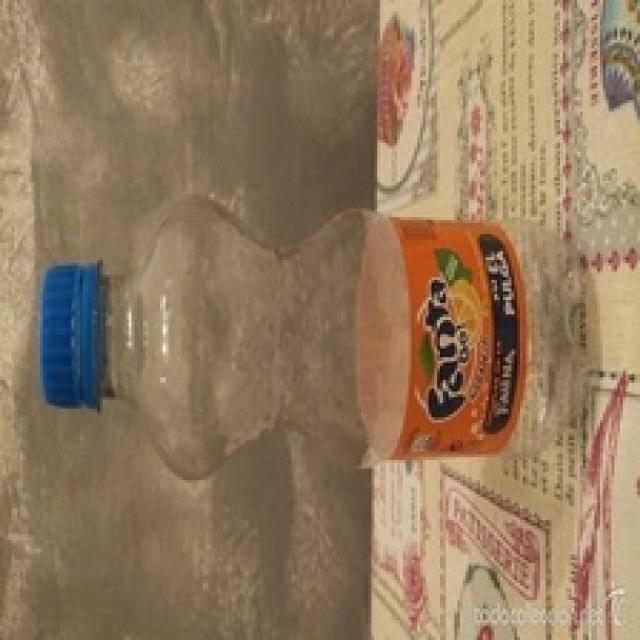Plastic: (39, 192, 592, 484)
